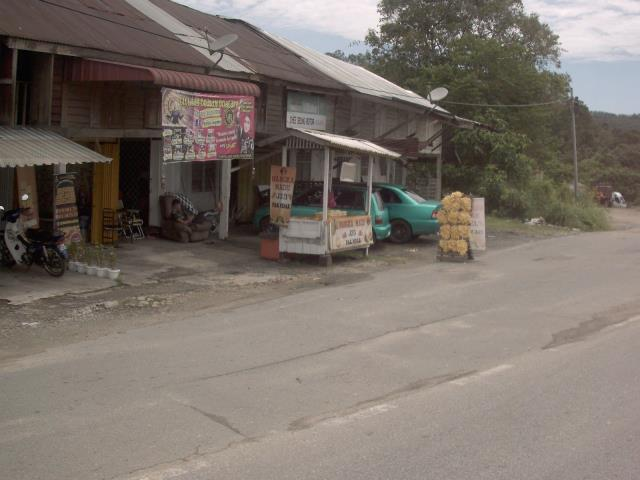ads_sign: (153, 82, 262, 170)
